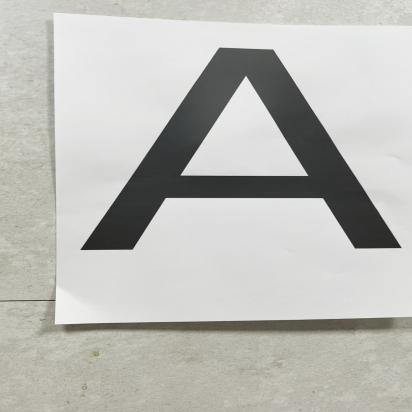seat: (84, 37, 412, 286)
